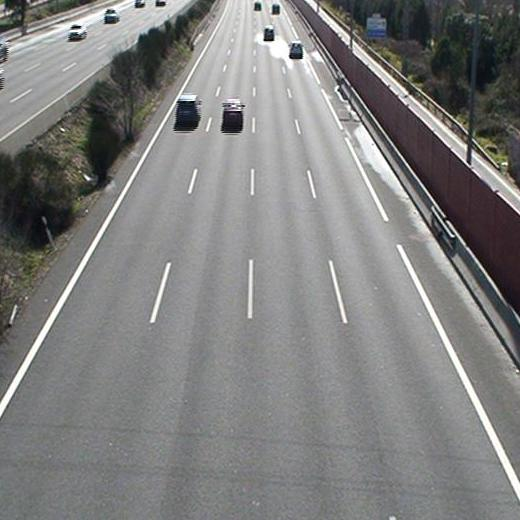car: (221, 99, 244, 130), (177, 94, 201, 123), (289, 41, 303, 57), (263, 26, 275, 41)
